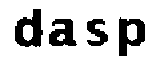a: (48, 16, 82, 50)
d: (7, 4, 46, 52)
p: (114, 15, 150, 60)
s: (83, 17, 109, 49)
